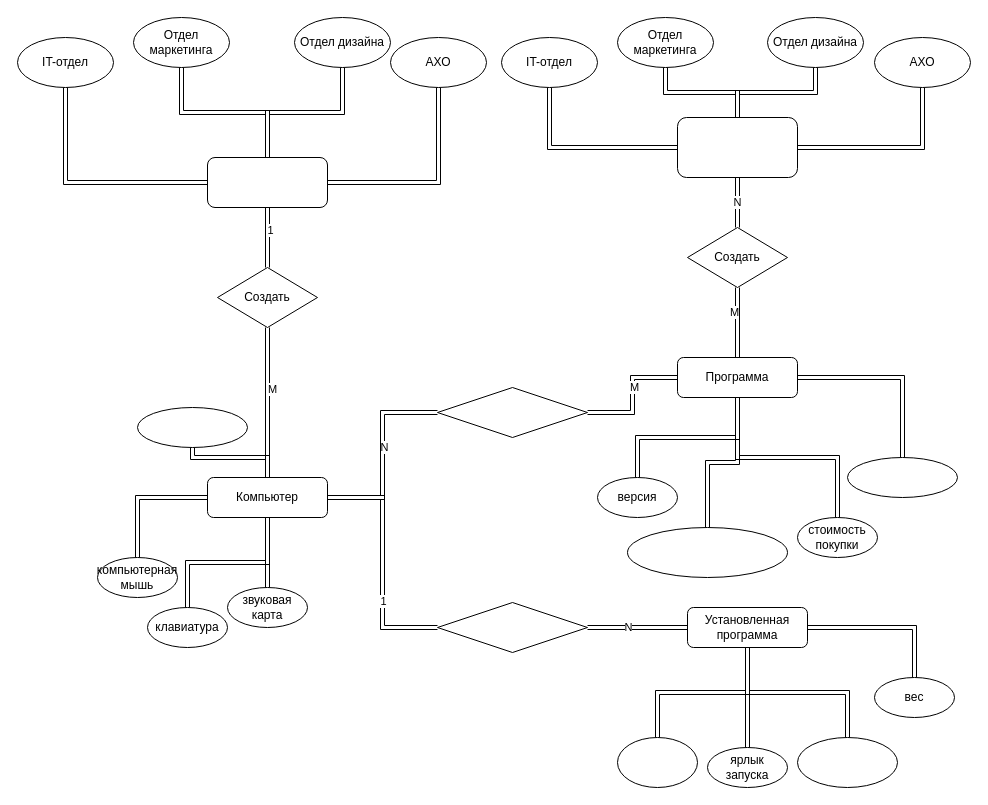
Image size: 988x805. Some labels were removed from this diagram. The shapes that lost their labels are listed below. From the top down, each one's centre as x and y in pixels, then its label:
(737,147): Компания-разработчик приложений
(267,182): Компания-производитель компьютеров
(192,427): операционные системы
(512,412): Установить
(902,477): название
(707,552): поддерживаемые операционные системы
(512,627): Запустить
(657,762): путь до программы
(847,762): дата создания
